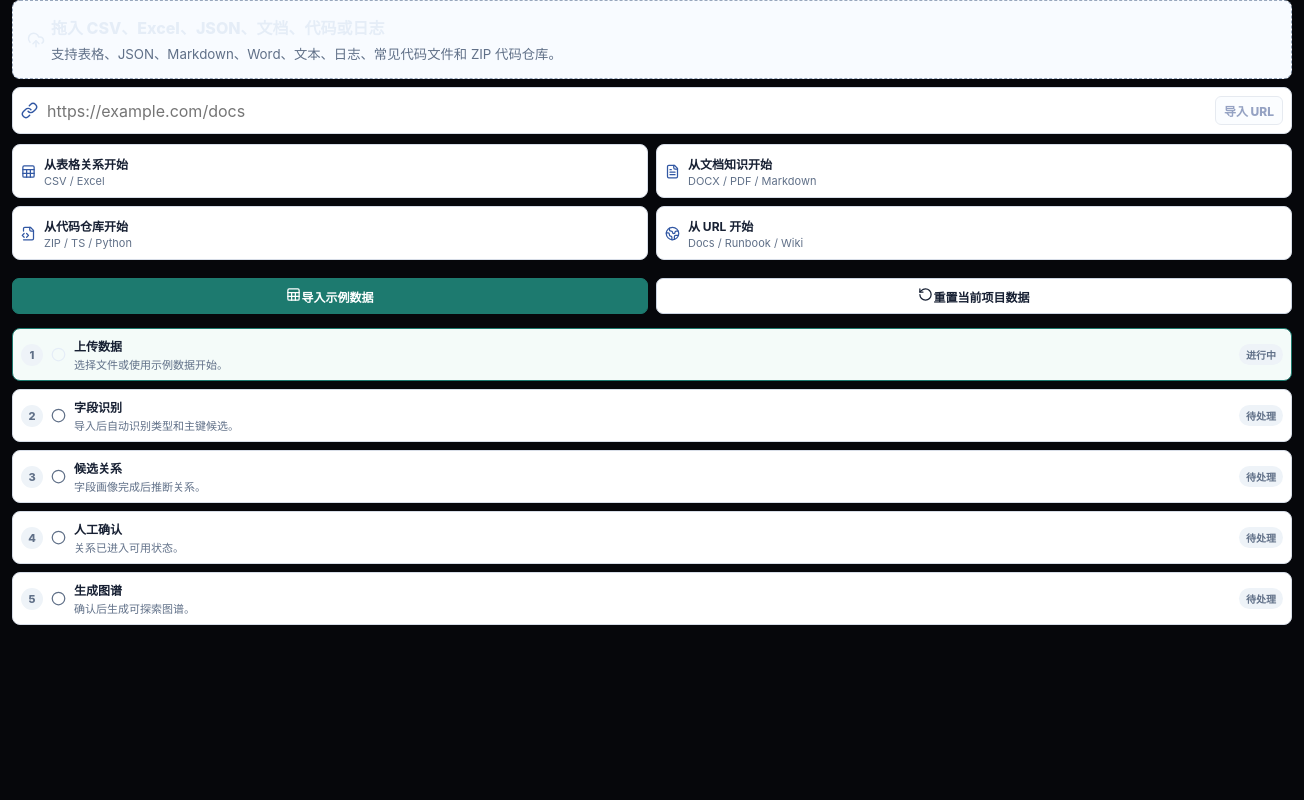
ImportIntakeControls › surfaces scenario-specific next steps when a first-graph template is selected
The image size is (1304, 800).
Click the button with aria-label "使用模板 从文档知识开始".
click(730, 164)  # box [656,144,1292,198]
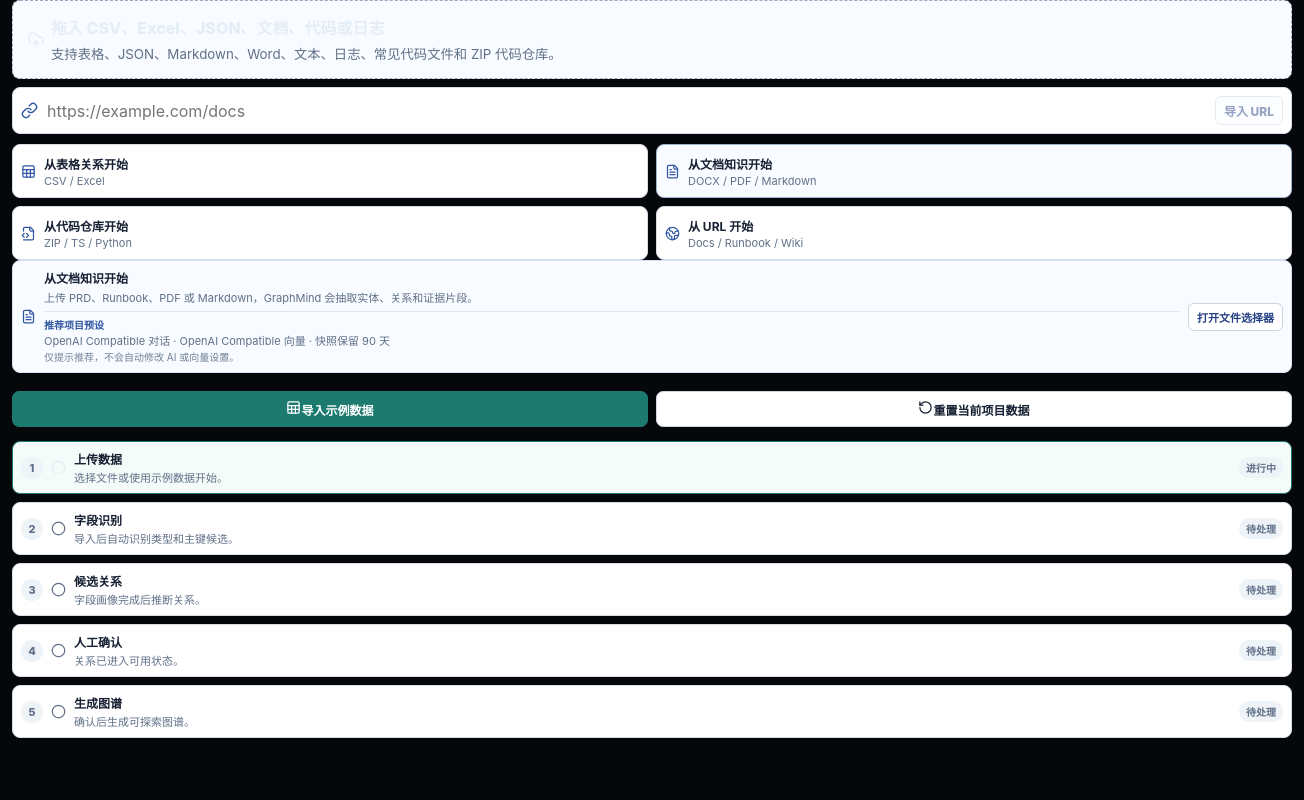
Check: the 2nd text "从文档知识开始" is shown, box [44,271,128,286]
Check: the text "上传 PRD、Runbook、PDF 或 Markdown，GraphMind 会抽取实体、关系和证据片段。" is shown, box [44,291,478,305]
Check: the button "打开文件选择器" is shown, box [1188,303,1283,331]
Click the button with aria-label "使用模板 从 URL 开始".
click(721, 226)  # box [656,206,1292,260]
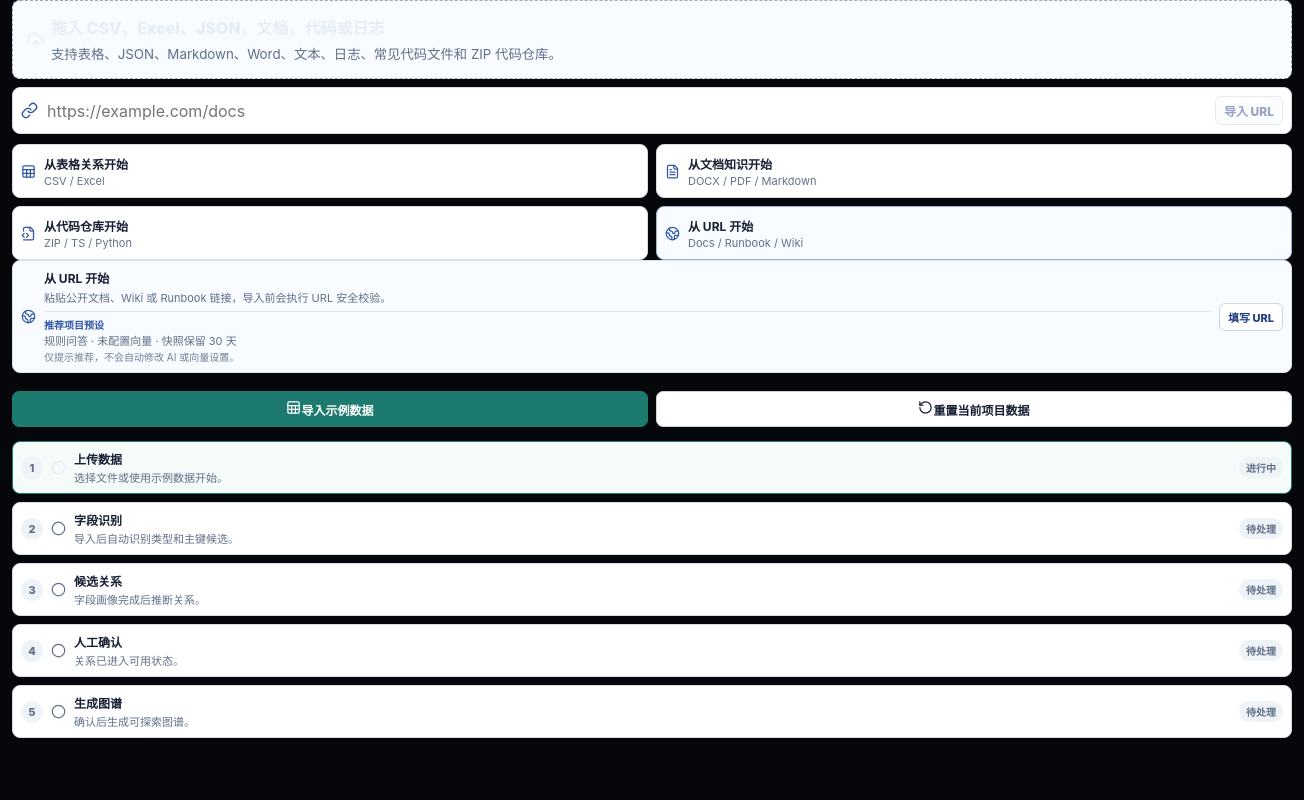
Check: the text "粘贴公开文档、Wiki 或 Runbook 链接，导入前会执行 URL 安全校验。" is shown, box [44,291,391,305]
Check: the button "填写 URL" is shown, box [1219,303,1283,331]
Click the button with aria-label "使用模板 从表格关系开始".
click(86, 164)  # box [12,144,648,198]
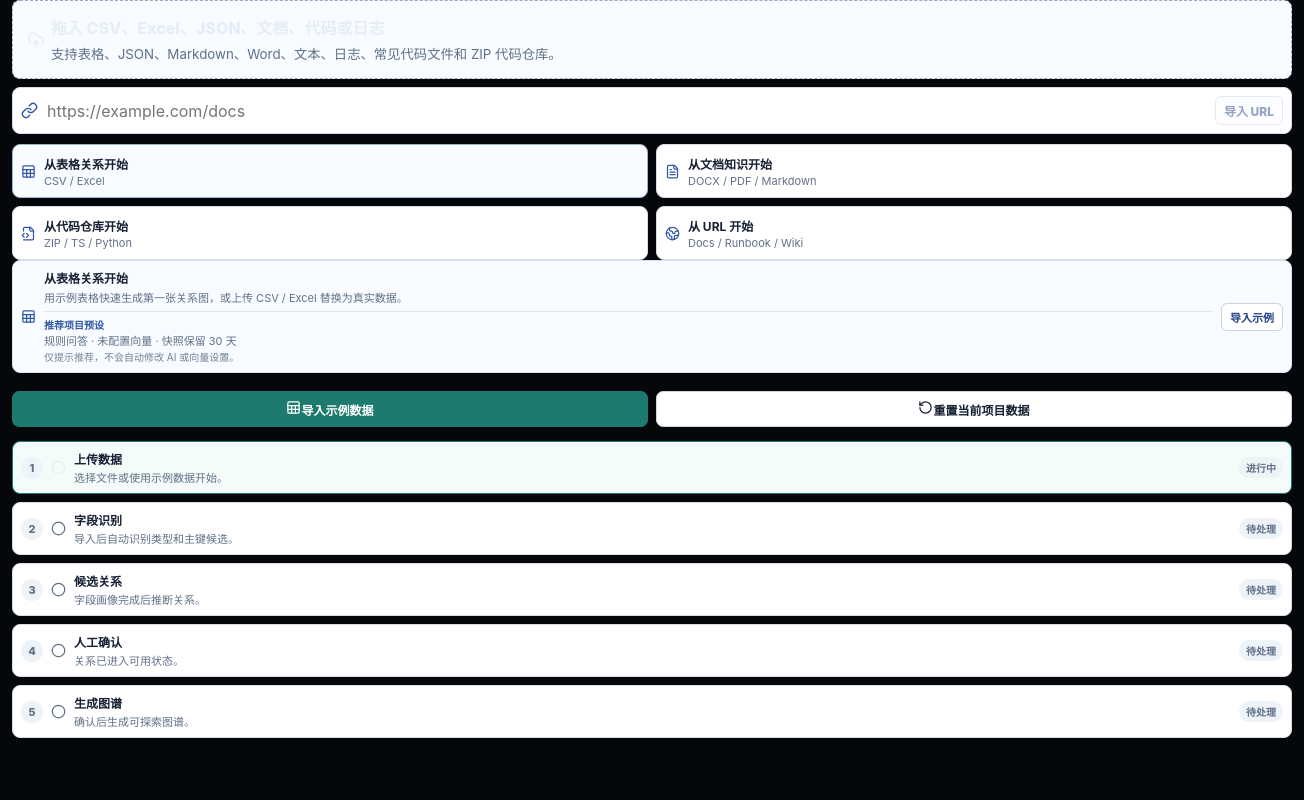
Check: the text "用示例表格快速生成第一张关系图，或上传 CSV / Excel 替换为真实数据。" is shown, box [44,291,408,305]
